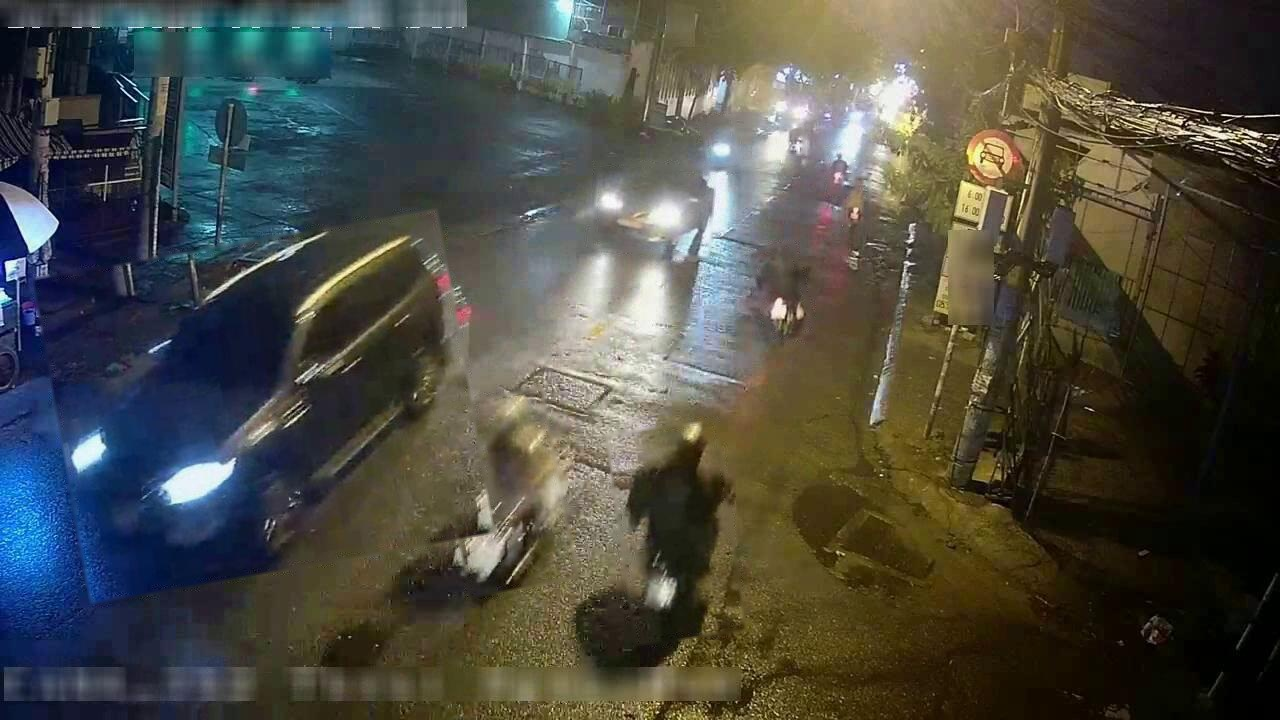Car: (70, 212, 468, 557), (592, 165, 713, 250)
Motorcyclist: (626, 422, 733, 633), (450, 394, 567, 586), (755, 252, 809, 339), (704, 120, 740, 171), (828, 152, 851, 198), (843, 179, 864, 226), (786, 125, 809, 163)
Sign: (215, 99, 247, 147)
